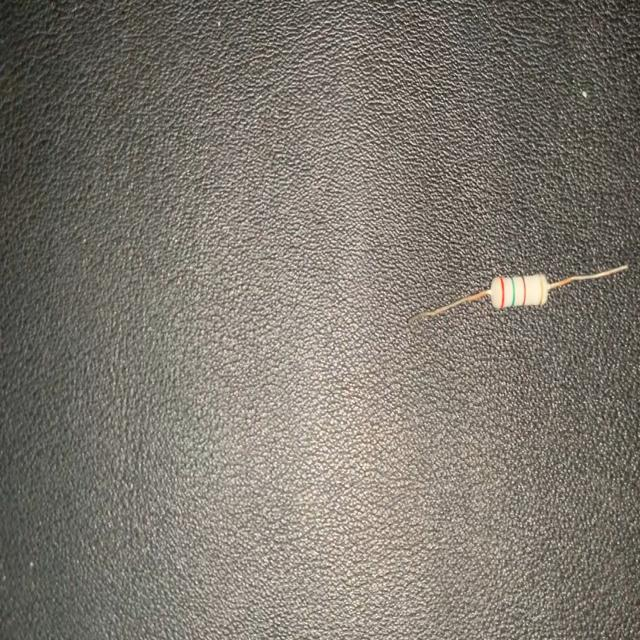resistor: (410, 266, 630, 326)
